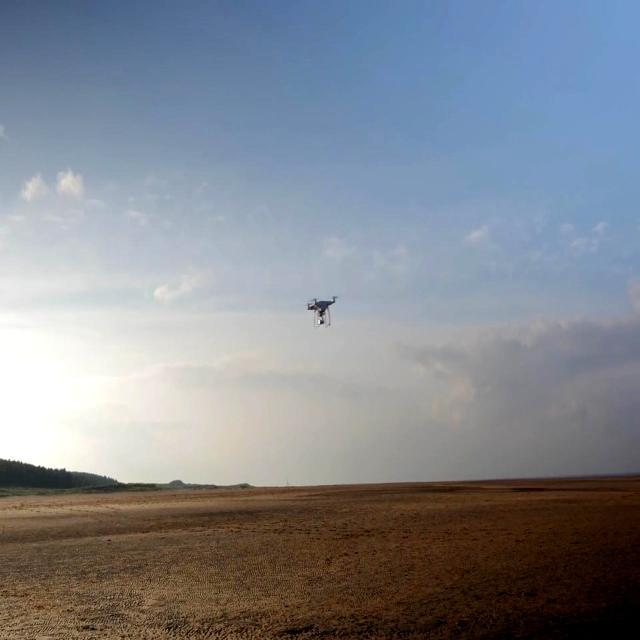drone: (305, 292, 340, 332)
